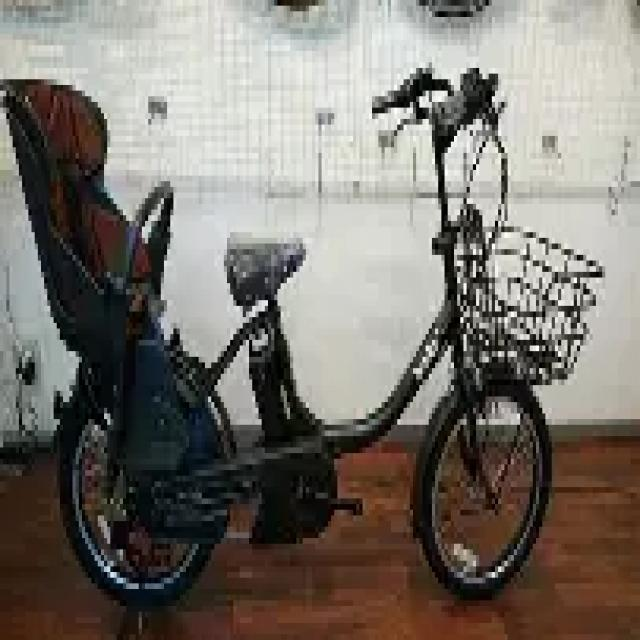basket: (447, 230, 603, 371)
battery: (245, 345, 282, 454)
childseat: (0, 76, 188, 486)
